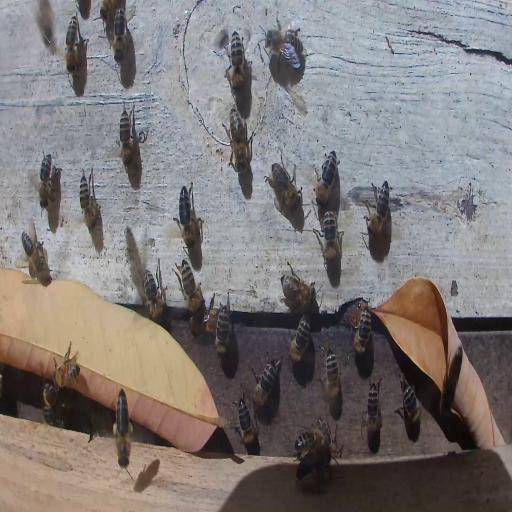bee: (438, 345, 464, 418), (175, 258, 204, 320), (265, 23, 304, 69), (113, 384, 133, 471), (270, 160, 302, 212), (250, 355, 282, 406), (364, 179, 392, 235), (313, 148, 339, 207), (228, 106, 250, 175), (236, 394, 260, 452), (78, 166, 99, 232), (143, 261, 166, 320), (321, 345, 343, 406), (280, 272, 315, 310), (397, 377, 422, 429), (177, 185, 196, 250), (295, 452, 324, 493), (350, 305, 372, 359), (363, 378, 382, 440), (318, 418, 342, 467), (320, 210, 341, 265), (22, 229, 46, 277), (229, 30, 246, 94), (214, 300, 232, 360), (288, 314, 310, 363), (118, 105, 133, 169), (36, 0, 55, 46), (190, 308, 219, 338), (38, 148, 52, 210), (293, 429, 324, 457), (65, 14, 77, 76), (112, 8, 126, 60), (55, 360, 80, 387), (43, 380, 58, 422), (88, 414, 110, 439)
